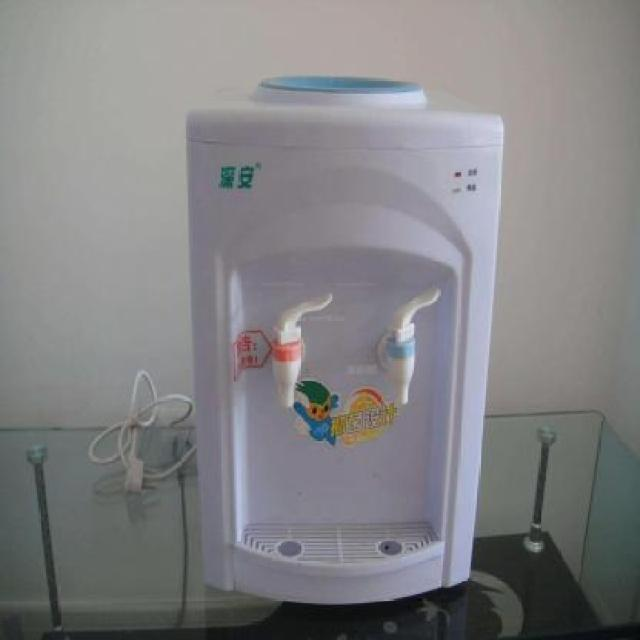cooler: (186, 74, 506, 610)
